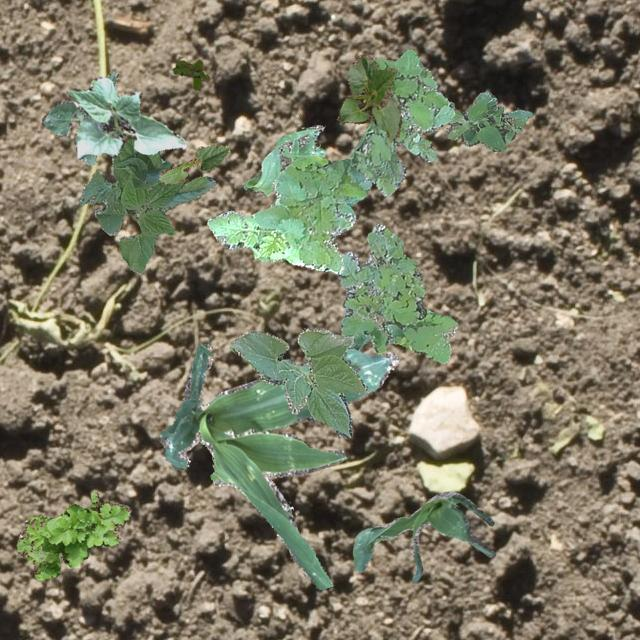crop: (158, 340, 398, 588), (78, 136, 214, 272), (228, 326, 366, 436), (352, 490, 494, 580), (66, 74, 186, 158), (40, 70, 116, 164), (242, 124, 326, 194), (336, 52, 401, 142), (158, 142, 228, 182)
weed: (206, 49, 454, 272), (338, 222, 457, 362), (16, 492, 130, 578), (446, 90, 530, 150), (172, 58, 208, 88), (342, 358, 360, 370)
